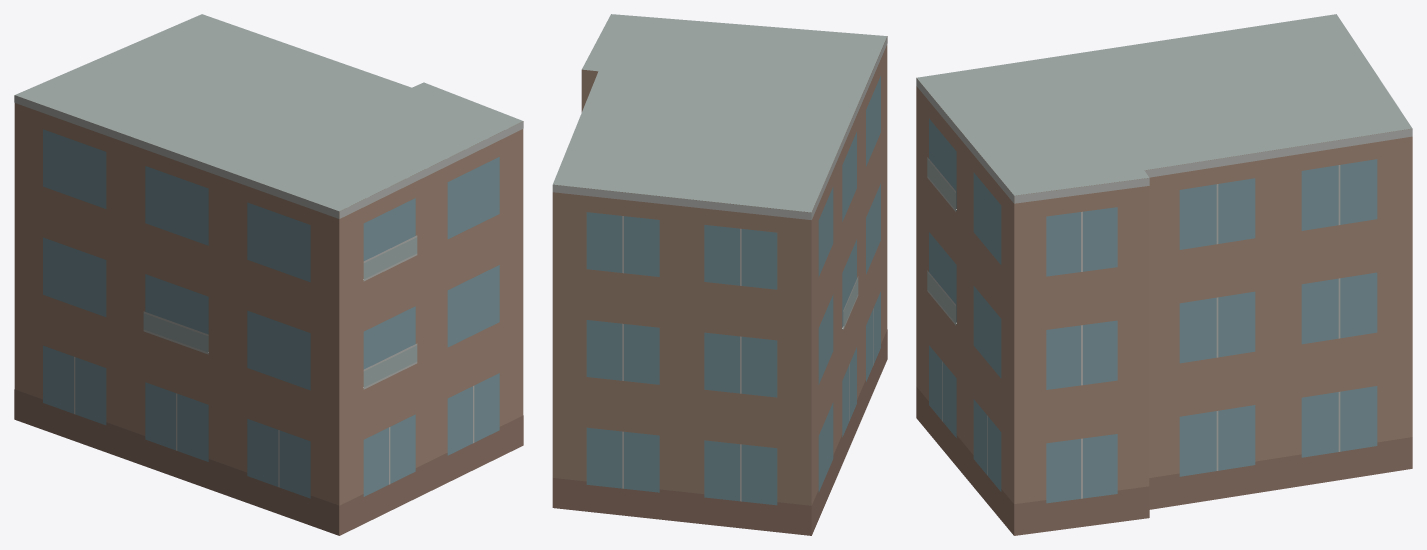
File: survey-upis-32928359.glb
3 views of the same model, side by side, from view 1: azimuth 30°, elevation 25°; view 2: azimuth 150°, elevation 25°; view 3: azimuth 270°, elevation 25° (orthographic). The views are drawn at different scales.
Parts seen in each view (by area): view 1: survey-upis-32928359.tmp; view 2: survey-upis-32928359.tmp; view 3: survey-upis-32928359.tmp.
Part boxes in pixels (x1,y1,x2,y2): survey-upis-32928359.tmp: (14,14,523,535); survey-upis-32928359.tmp: (552,14,887,535); survey-upis-32928359.tmp: (916,14,1412,535).
Bounding box in the file's own units: 11.8 × 10.3 × 13.62.
